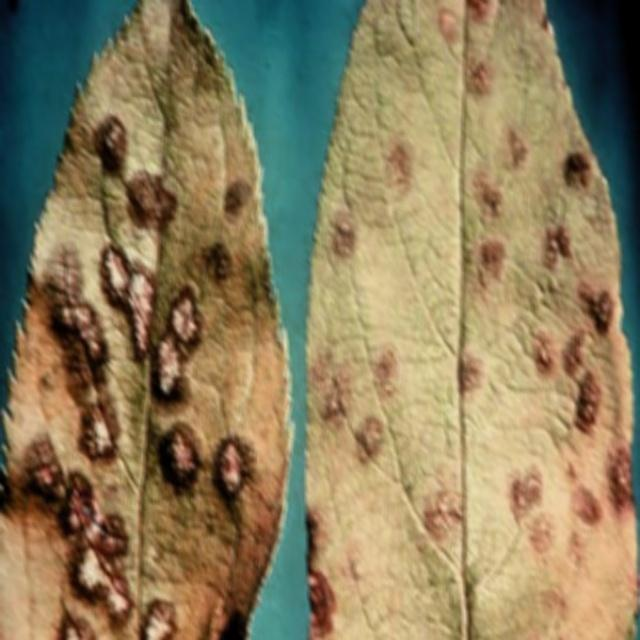leaf_spot: (304, 0, 638, 640), (0, 0, 299, 640)
shot_hole: (0, 0, 300, 639)
